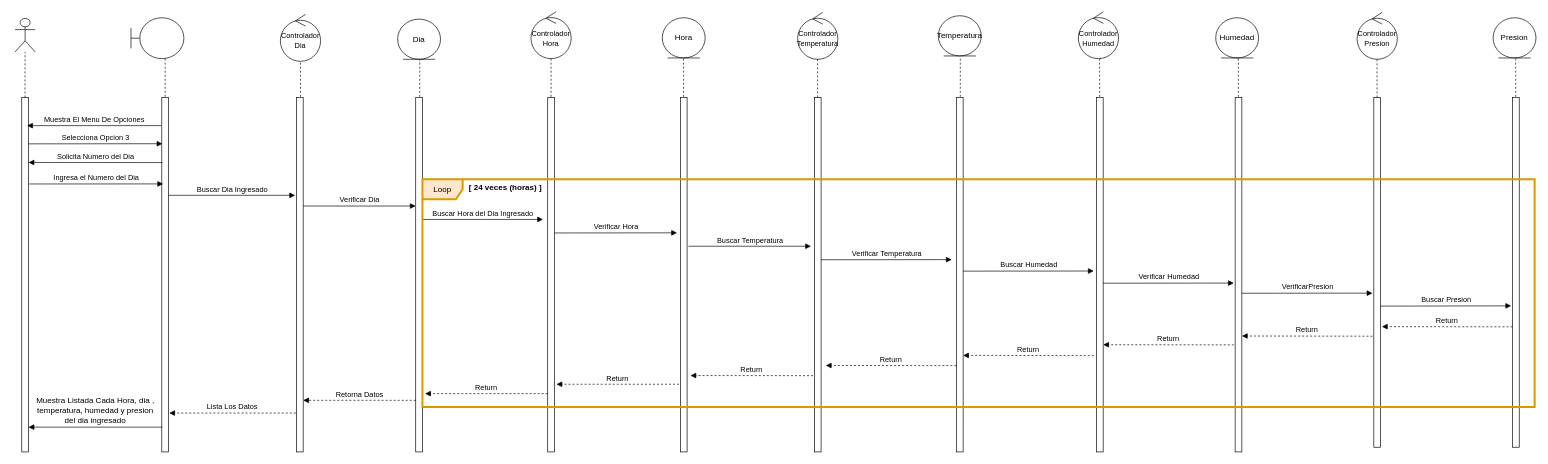
Some shapes in this 1548 by 464 pixel diagram are drawn without their labels. Here are the shapes that lost their labels. From the top down, the centre of each, then its label:
point (24, 35): Usuario
point (157, 38): Interfaz
